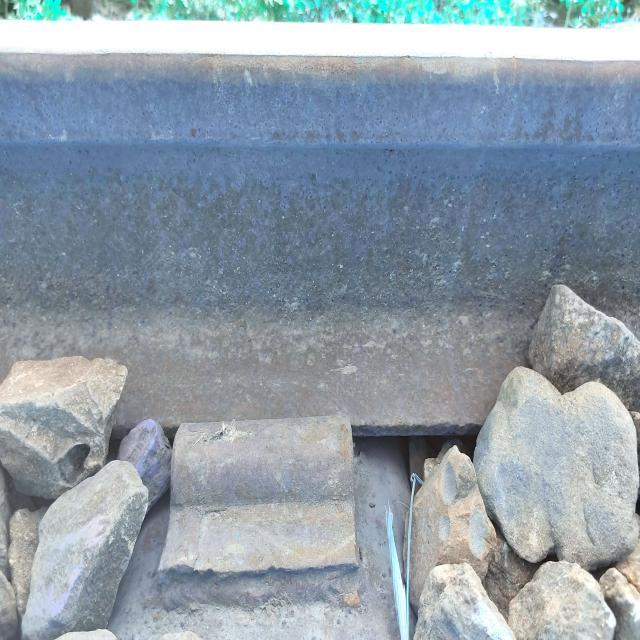Missing Fastener: (127, 415, 406, 609)
